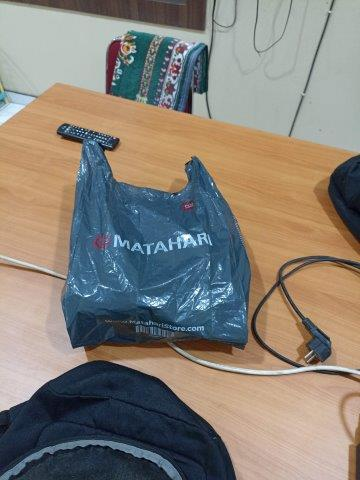plastik: (61, 140, 251, 348)
